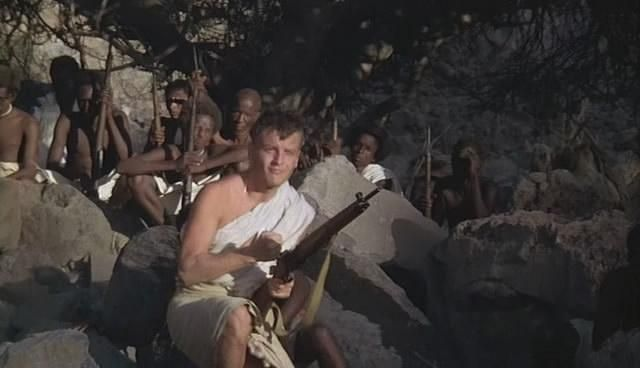gun: (247, 170, 384, 311), (94, 37, 125, 182), (140, 54, 174, 168), (414, 115, 448, 220), (179, 76, 202, 216), (316, 78, 352, 165)
